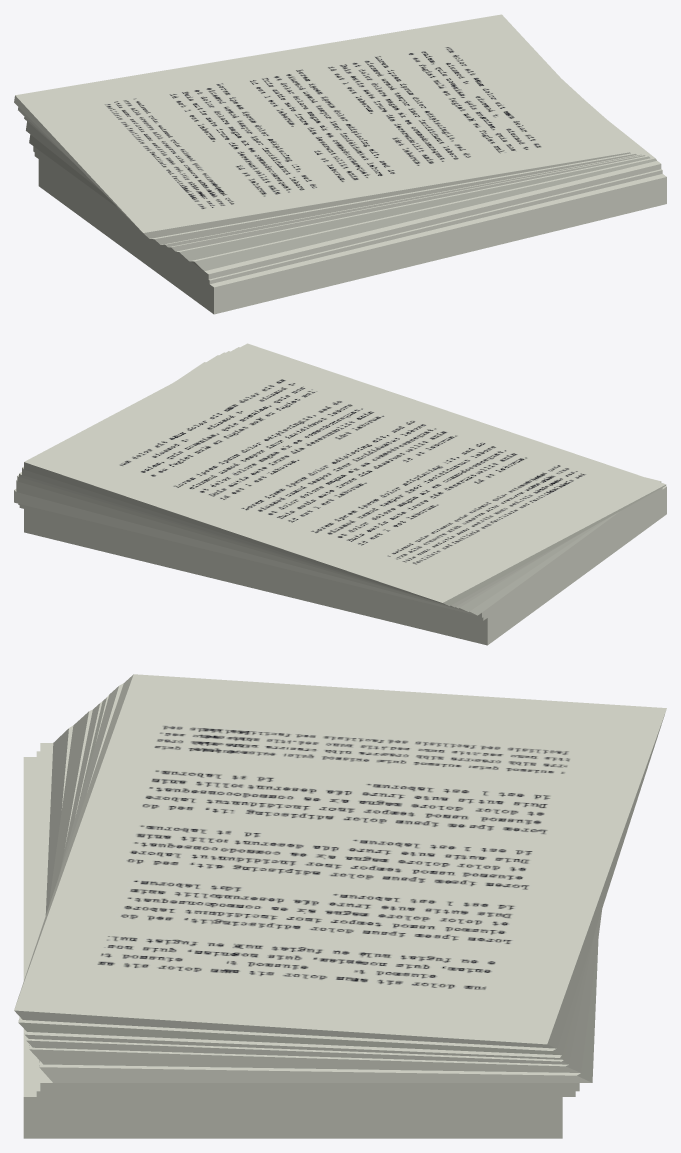
The model's file is Stack_of_paper.fbx.
The picture shows the model from 3 angles, top to bottom: view 1: azimuth 30°, elevation 25°; view 2: azimuth 150°, elevation 25°; view 3: azimuth 270°, elevation 25°; orthographic projection. The views are drawn at different scales.
Parts seen in each view (by area): view 1: paper; view 2: paper; view 3: paper.
Boxes of the visible parts, box(x1,y1,x2,y2) form: paper: box(14, 14, 666, 314); paper: box(14, 343, 666, 645); paper: box(14, 674, 666, 1138).
Size of the model in its own units: 78.66 by 9.69 by 58.45.
1 material, 1 textured.
